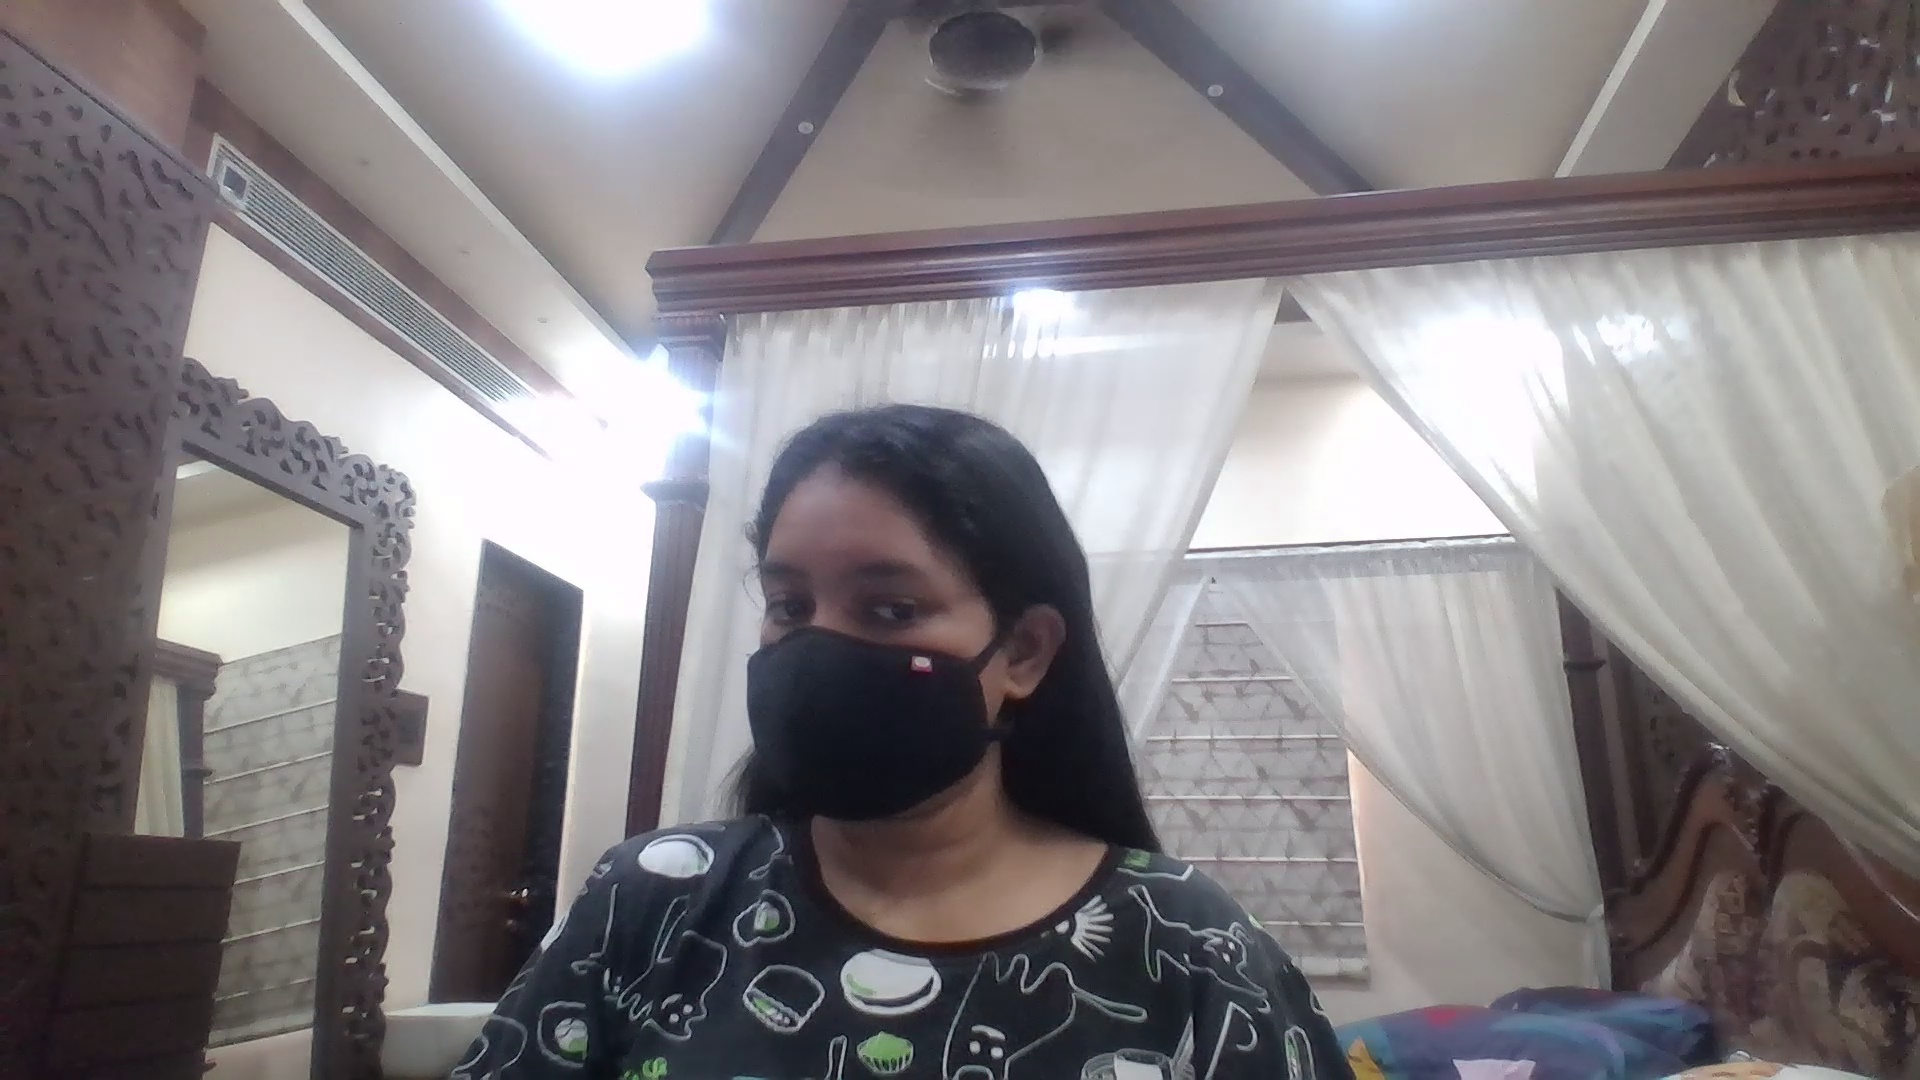Mask: (743, 628, 996, 825)
